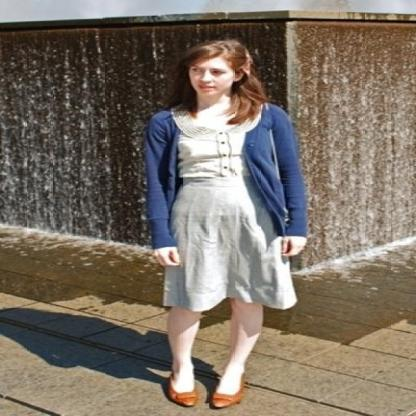dress: (157, 108, 300, 318)
jacket: (138, 97, 326, 249)
shoe: (159, 376, 193, 407)
